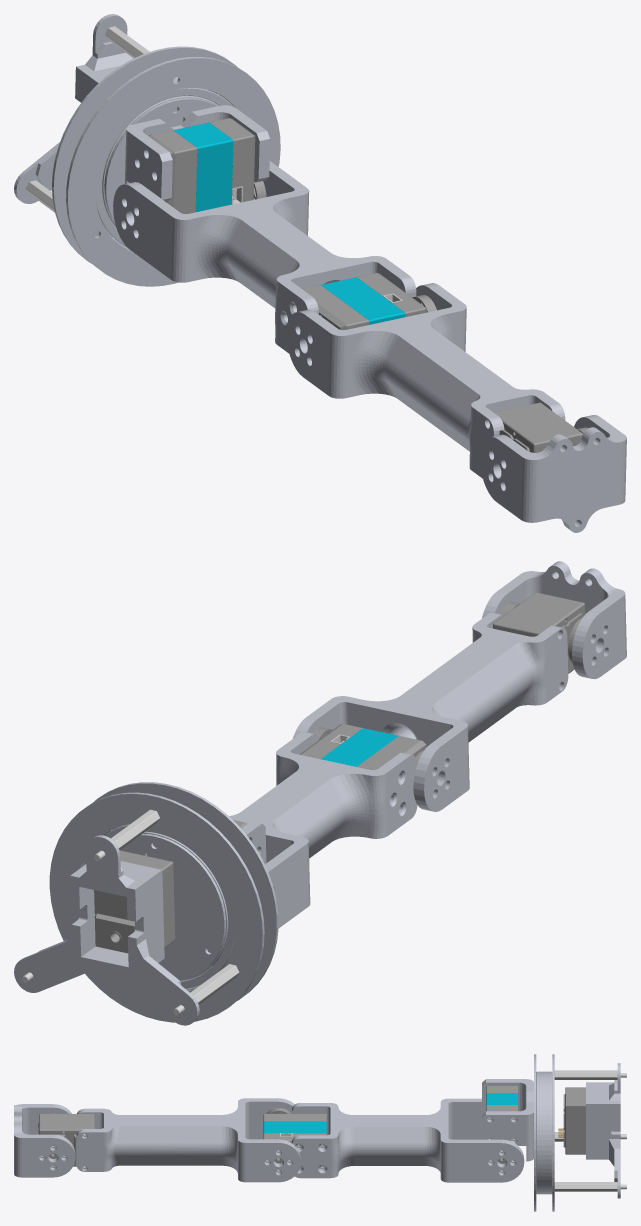
The model's file is arm_assembly_1.3dxml.glb.
3 views of the same model, one above another, from view 1: azimuth 30°, elevation 25°; view 2: azimuth 150°, elevation 25°; view 3: azimuth 270°, elevation 25° (orthographic). The views are drawn at different scales.
Visible parts, largest first — view 1: Servo-horn (non-driven); view 2: Servo-horn (non-driven); view 3: Servo-horn (non-driven).
Part boxes in pixels (bbox=[...]): Servo-horn (non-driven): bbox=[14, 14, 626, 532]; Servo-horn (non-driven): bbox=[14, 561, 626, 1025]; Servo-horn (non-driven): bbox=[14, 1054, 626, 1211].
Size of the model in its own units: 0.1 by 0.1 by 0.3892.
